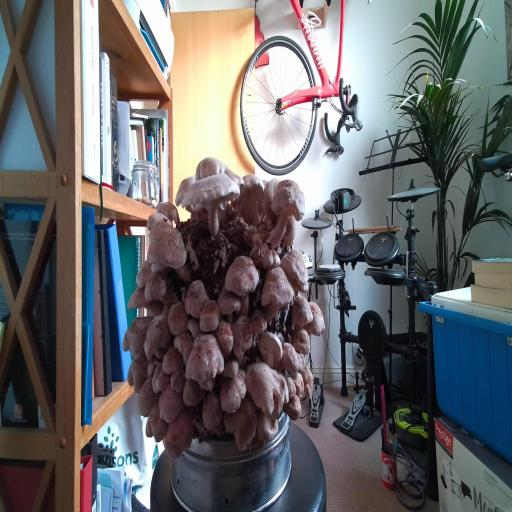Shiitake Mushroom: (173, 146, 250, 246), (241, 165, 325, 252), (214, 242, 268, 319), (216, 387, 269, 459), (148, 405, 209, 466), (249, 257, 301, 325), (182, 325, 230, 398), (204, 364, 263, 420), (146, 219, 195, 281), (273, 239, 321, 302), (146, 376, 195, 432), (189, 151, 251, 195), (207, 277, 253, 330), (173, 272, 218, 326), (249, 321, 293, 376), (233, 168, 271, 229), (221, 309, 262, 362), (136, 309, 176, 363), (135, 399, 175, 452), (119, 303, 154, 363), (126, 374, 168, 422), (193, 387, 230, 436), (166, 321, 203, 366), (207, 314, 243, 360), (119, 354, 154, 397), (143, 360, 176, 402), (250, 407, 282, 449), (168, 167, 200, 208), (144, 270, 178, 308), (302, 299, 330, 342), (287, 289, 315, 331), (150, 195, 187, 226), (128, 256, 159, 293), (164, 298, 191, 338), (158, 341, 186, 378), (277, 339, 303, 377), (296, 361, 320, 402), (260, 174, 280, 221), (278, 212, 302, 251), (245, 304, 270, 341), (281, 392, 305, 426), (199, 299, 221, 332), (182, 312, 206, 342), (167, 366, 189, 398), (140, 296, 169, 320), (144, 209, 174, 231), (183, 378, 205, 407), (260, 244, 282, 273), (290, 369, 309, 400), (247, 231, 265, 263), (292, 325, 311, 355), (126, 285, 147, 310), (222, 358, 239, 379), (285, 373, 298, 399)
